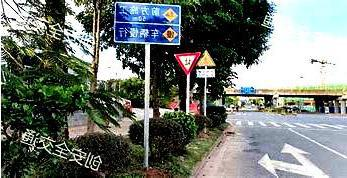sign: (115, 2, 180, 45)
